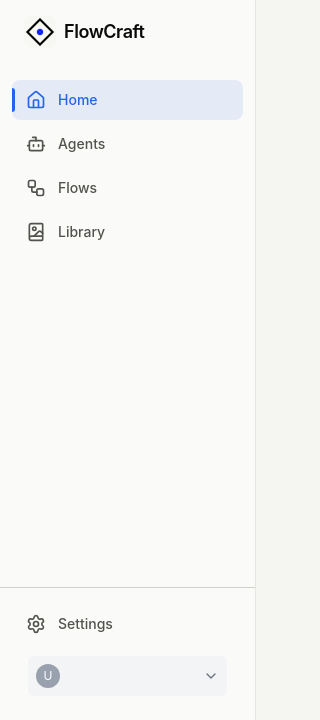
Main Sidebar Navigation › displays submenus when hovering over Agents
Hover over the text "Agents".
mouse_move(66, 144)  # box [26,134,105,154]
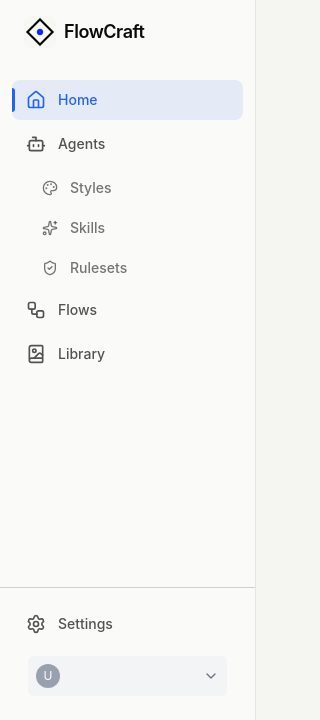
Check: the link "Styles" is shown, box [42,179,112,196]
Check: the link "Skills" is shown, box [42,219,105,236]
Check: the link "Rulesets" is shown, box [42,259,127,276]
Move the pointer off the text "Agents", box [26,134,127,276]
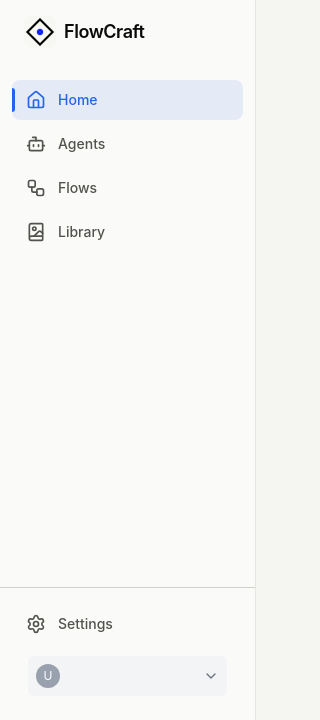
Check: the link "Styles" is gone
Check: the link "Skills" is gone
Check: the link "Rulesets" is gone
